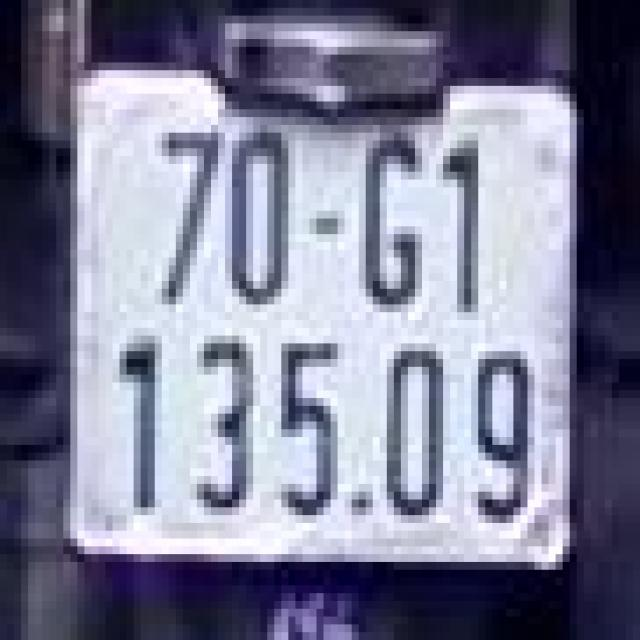0: (228, 117, 299, 312), (383, 340, 447, 519)
1: (112, 320, 169, 515), (436, 133, 492, 320)
3: (190, 324, 260, 519)
5: (274, 332, 345, 519)
7: (151, 121, 222, 300)
9: (471, 343, 535, 531)
G: (359, 129, 422, 316)
